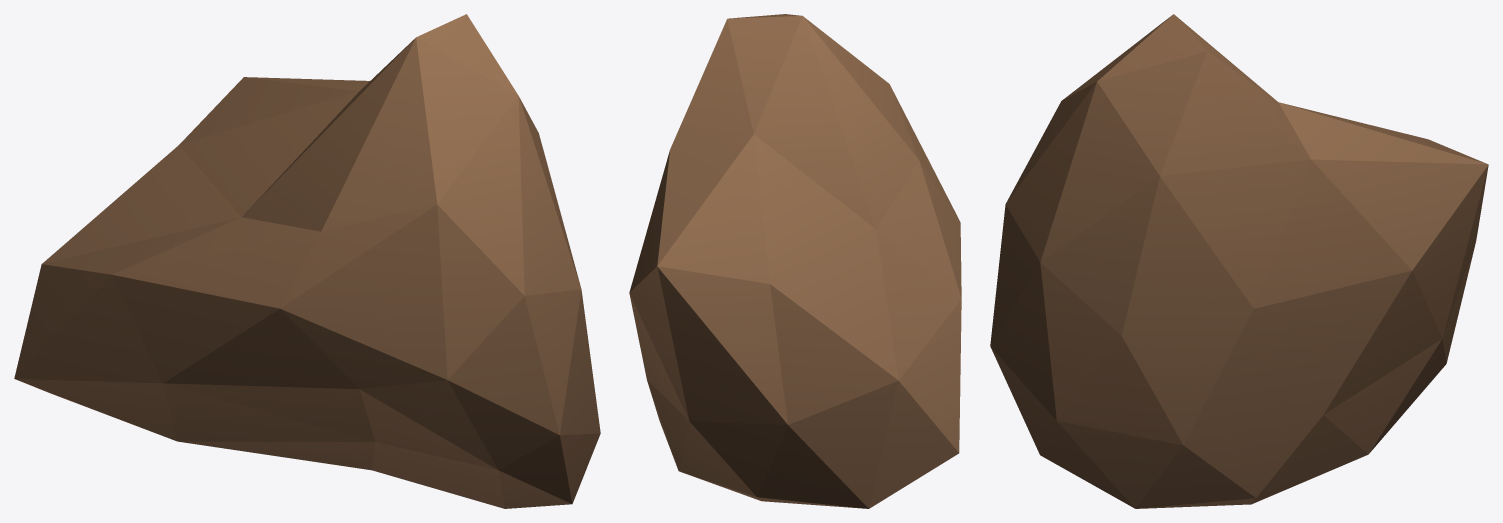
Rendered from stone_D.fbx.
The picture shows the model from 3 angles, left to right: view 1: azimuth 30°, elevation 25°; view 2: azimuth 150°, elevation 25°; view 3: azimuth 270°, elevation 25°; orthographic projection. The views are drawn at different scales.
Parts seen in each view (by area): view 1: Icosphere.012; view 2: Icosphere.012; view 3: Icosphere.012.
Boxes of the visible parts, x1=… form: Icosphere.012: x1=14, y1=14, x2=600, y2=508; Icosphere.012: x1=629, y1=14, x2=961, y2=508; Icosphere.012: x1=990, y1=14, x2=1488, y2=508.
Bounding box in the file's own units: 1.79 × 1.92 × 1.9.
1 material, 1 textured.
